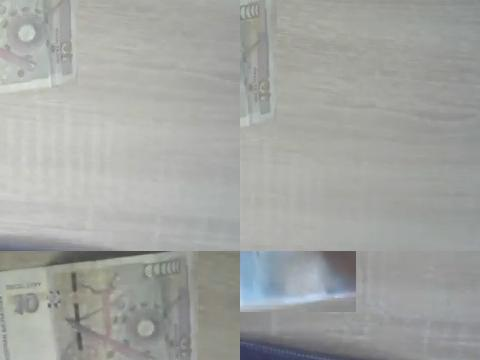20leva: (240, 251, 356, 312)
